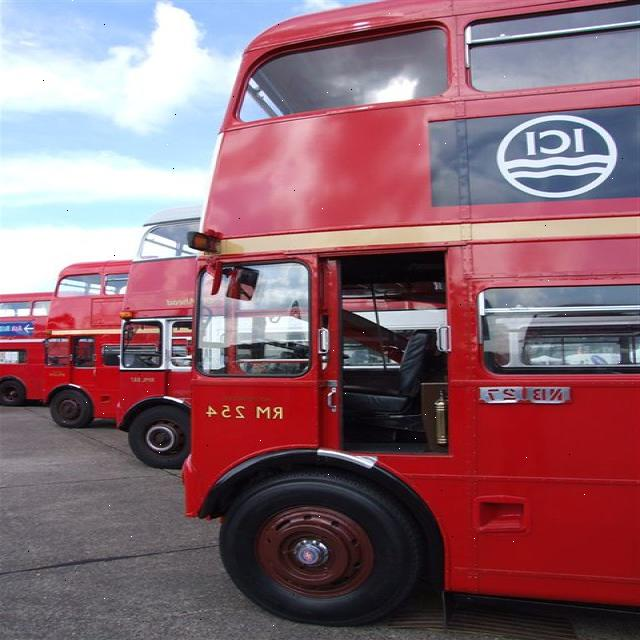Bus: (179, 0, 640, 620), (119, 257, 304, 466), (119, 257, 301, 466), (121, 205, 203, 462), (119, 257, 197, 466), (45, 261, 134, 426), (0, 294, 55, 402)
